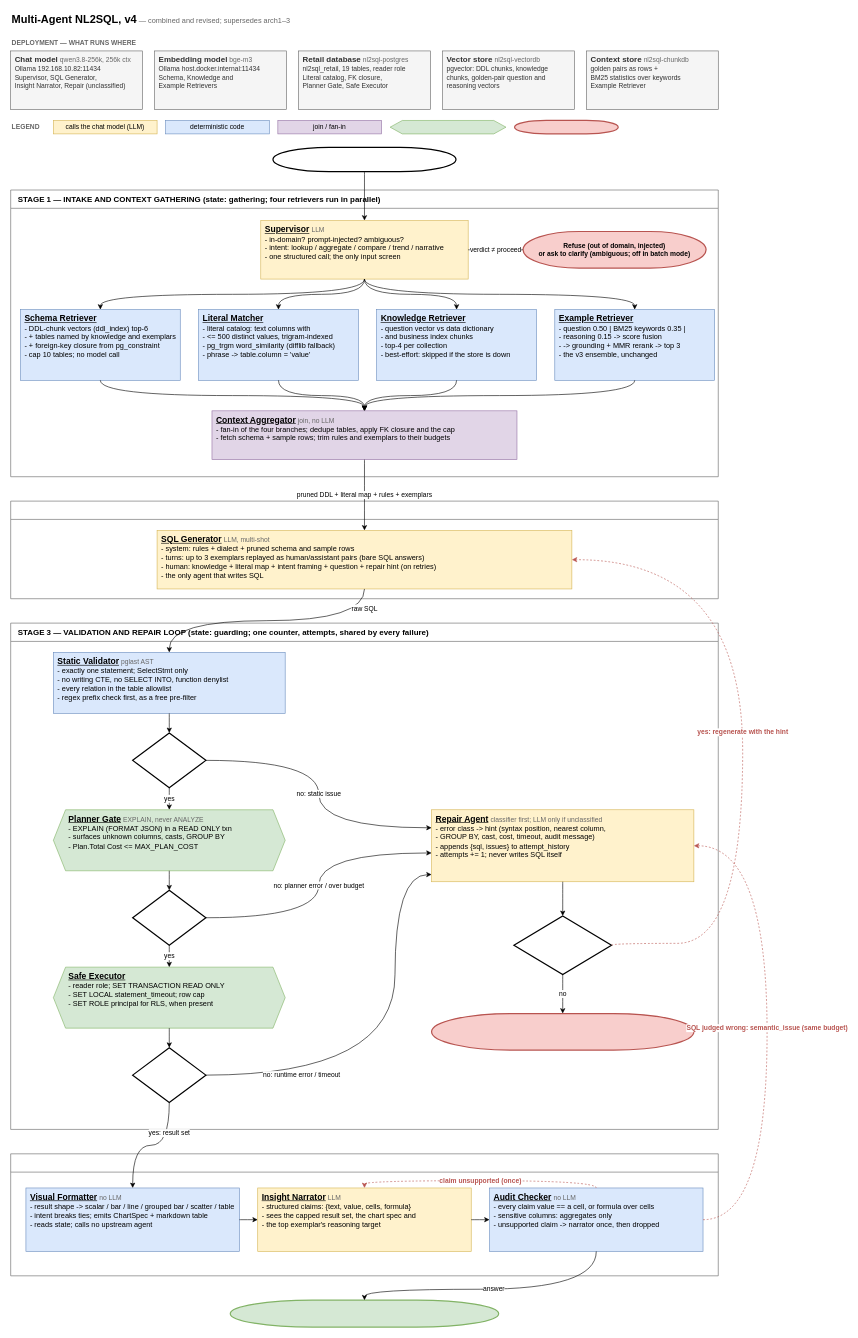
This 858x1338 diagram has some shape labels left out. Each missing label, with the box of its shape:
AST passes?: (132, 732, 206, 788)
attempts < max (4)?: (513, 915, 612, 975)
database gate / executor: (389, 120, 506, 134)
Give up: last SQL + full attempt history: (431, 1013, 694, 1050)
Markdown answer + chart spec + SQL + trace (per-agent timings): (229, 1299, 499, 1327)
Natural-language question: (272, 146, 456, 172)
plan ok?: (132, 889, 206, 946)
ran?: (132, 1047, 206, 1103)
STAGE 2 — SYNTHESIS (state: compiling): (10, 501, 718, 599)
STAGE 4 — PRESENTATION AND AUDIT (state: formatting): (10, 1153, 718, 1276)
stops the run: (514, 120, 619, 134)
